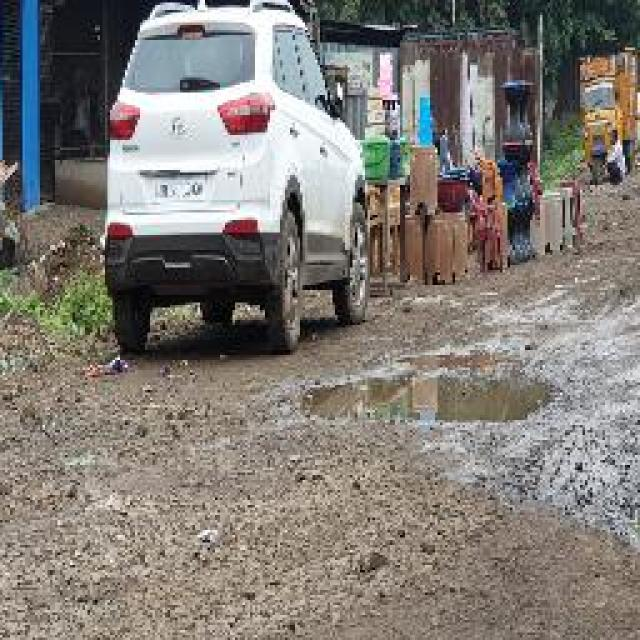stagnation: (302, 348, 588, 444)
